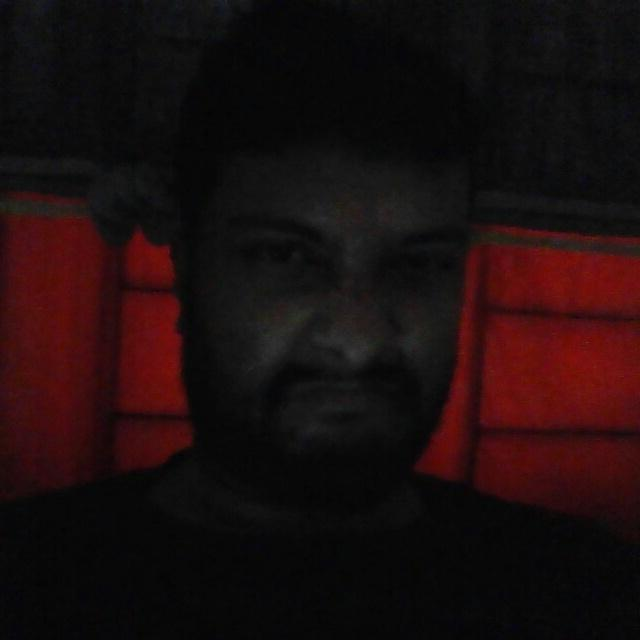Disgust: (109, 130, 542, 548)
